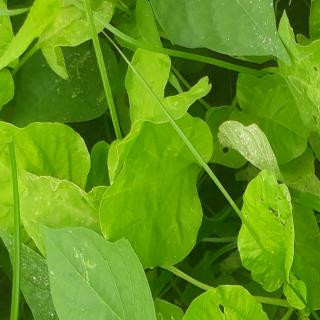karat_putih: (19, 163, 99, 216), (219, 119, 283, 173)
